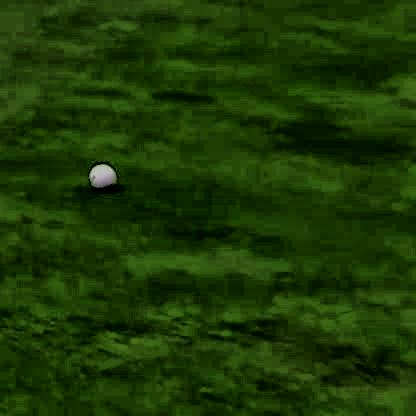golfball: (85, 159, 113, 187)
